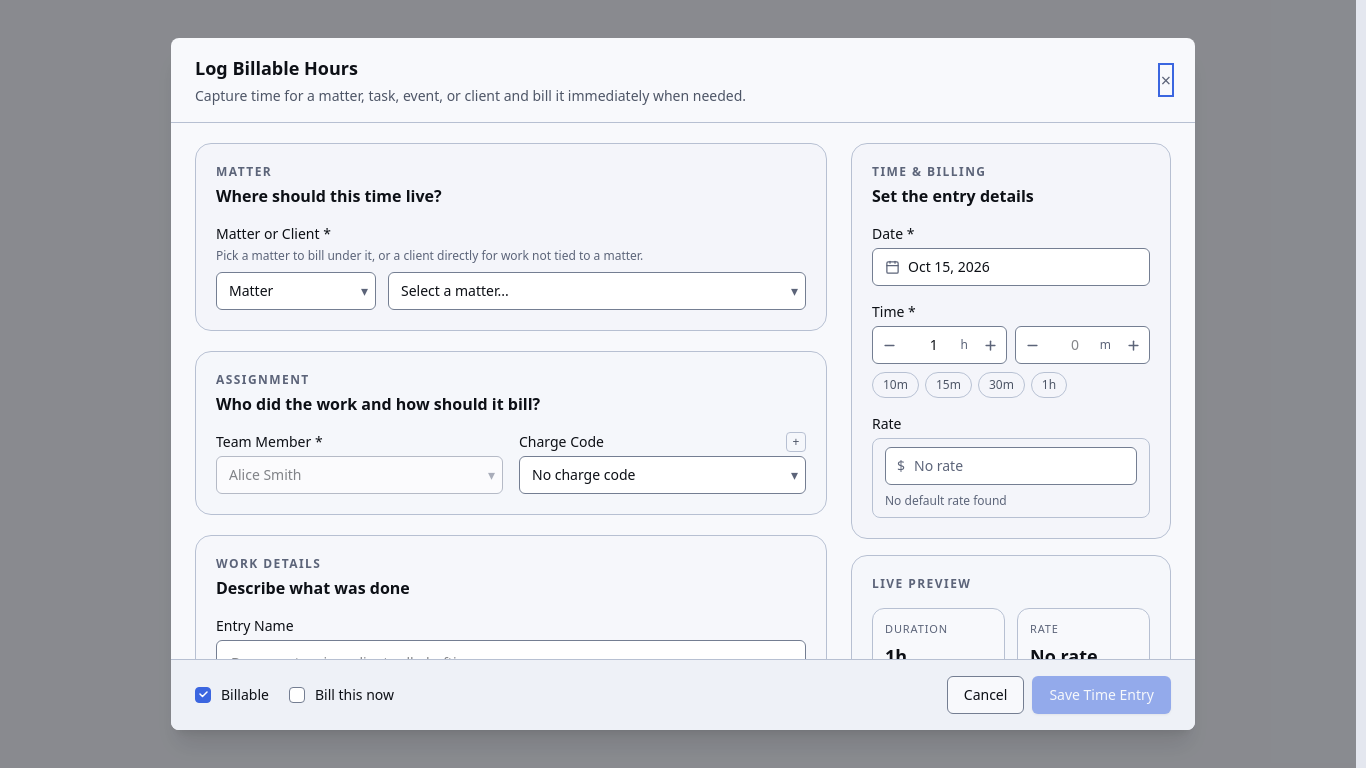
Test: TimeEntryModal › target picker › searches matters from the server when the picker opens
Click the button "Select a matter... ▾" at (455, 291), box [388,272,806,310]
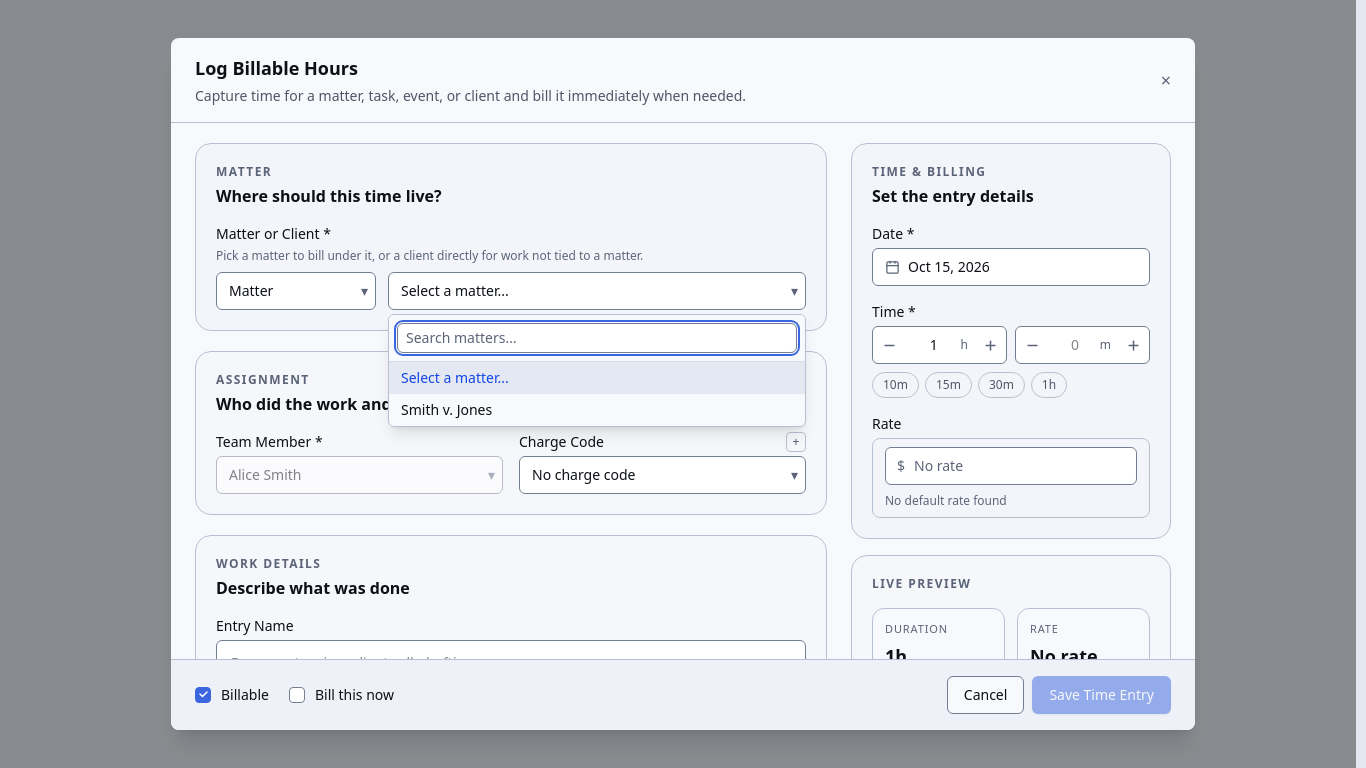
Now the text "Smith v. Jones" is shown, box [401,400,492,420]
